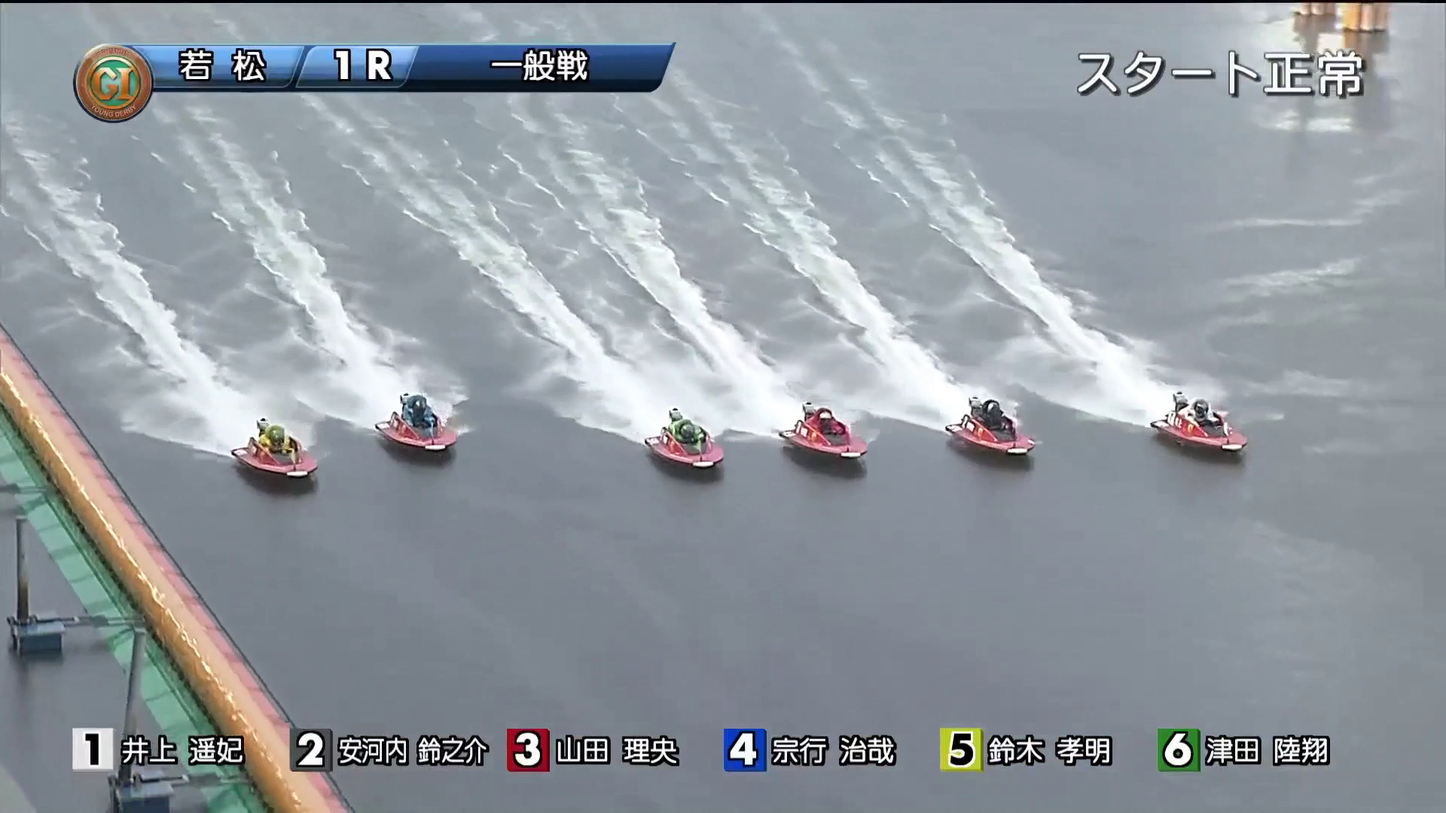１号艇: (1166, 399, 1254, 441)
２号艇: (957, 407, 1049, 446)
３号艇: (789, 425, 883, 467)
４号艇: (633, 416, 739, 461)
５号艇: (350, 388, 470, 443)
６号艇: (239, 425, 339, 482)
